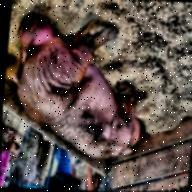boar: (1, 14, 156, 165)
